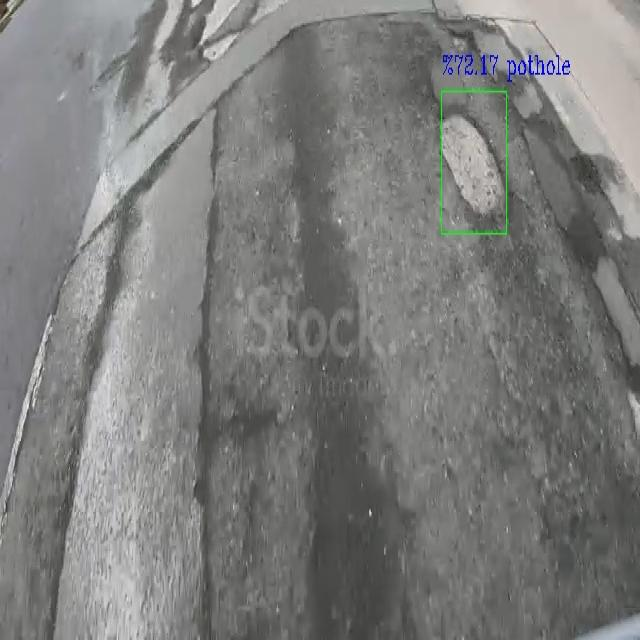pothole: (444, 93, 505, 231)
